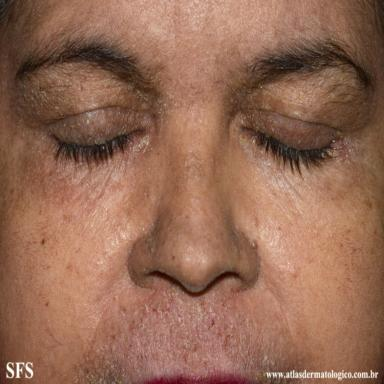Darier_s-Disease: (74, 286, 291, 384), (13, 63, 171, 147), (225, 67, 360, 122), (23, 151, 72, 203), (239, 135, 283, 172), (331, 134, 369, 165), (180, 147, 208, 179), (142, 218, 162, 261), (130, 133, 153, 158)
